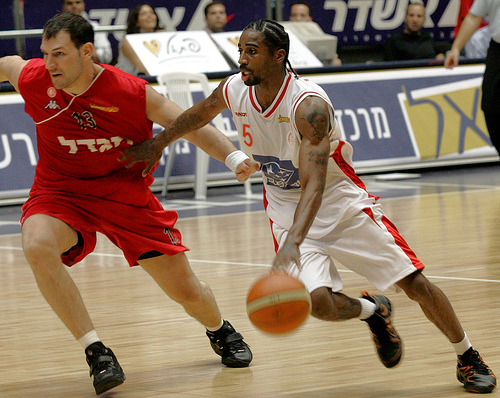basketball: (246, 273, 310, 336)
